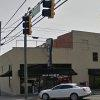Traffic light: (14, 2, 60, 40)
